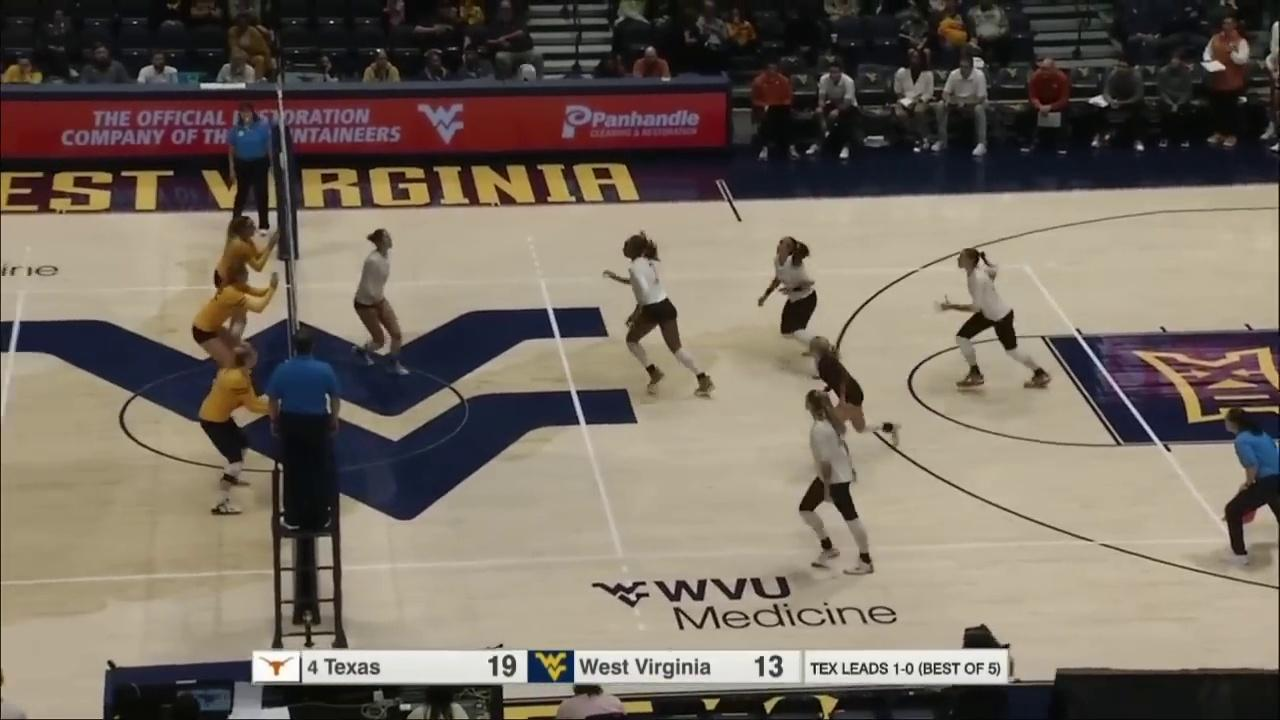player: (607, 236, 716, 397), (936, 248, 1054, 388), (797, 389, 872, 577), (802, 330, 902, 462), (757, 236, 835, 382), (196, 263, 273, 397), (203, 348, 265, 514), (352, 230, 413, 373), (214, 217, 275, 352)
refree: (269, 332, 337, 533), (1213, 406, 1280, 572), (226, 102, 275, 241)
